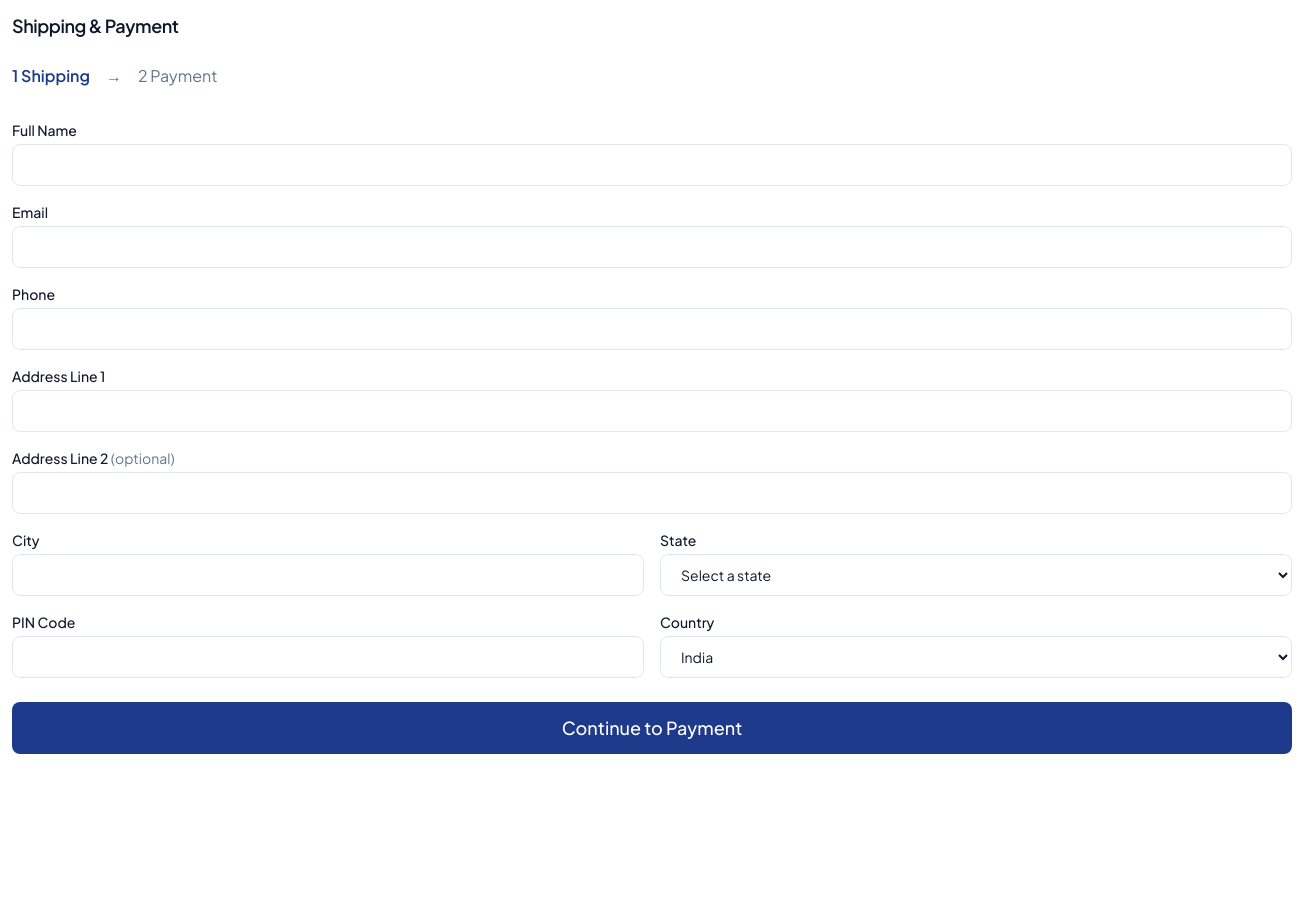
Test: CheckoutForm › links to prescription upload when checkout is blocked on a missing approved prescription
Type "Test User" into the field labelled "Full Name" at (652, 165), box [12, 144, 1292, 186]
Type "test@test.com" into the field labelled "Email" at (652, 247), box [12, 226, 1292, 268]
Type "9876543210" into the field labelled "Phone" at (652, 329), box [12, 308, 1292, 350]
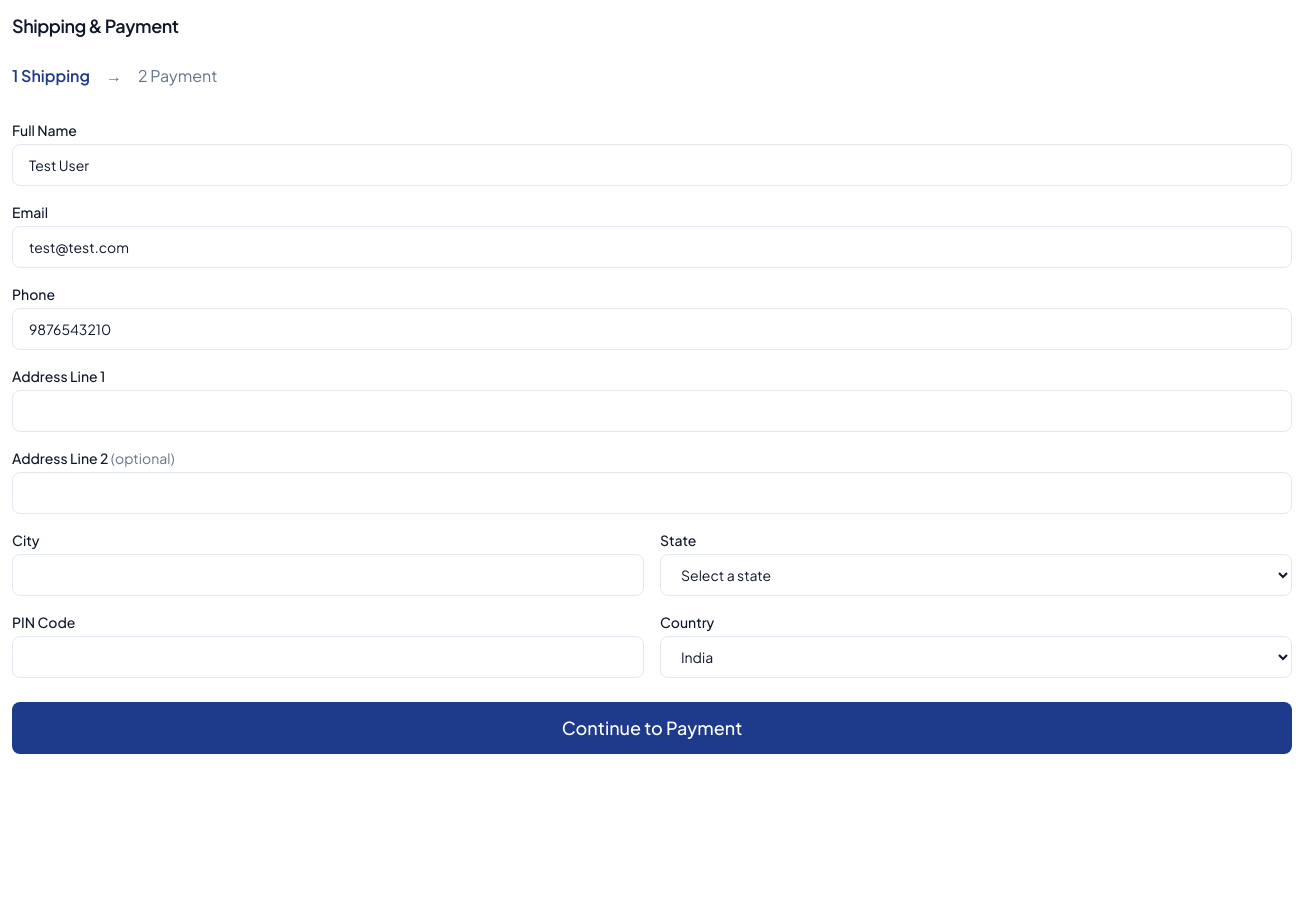
Type "22-1-53, Balaji Nagar" into the field labelled "Address Line 1" at (652, 411), box [12, 390, 1292, 432]
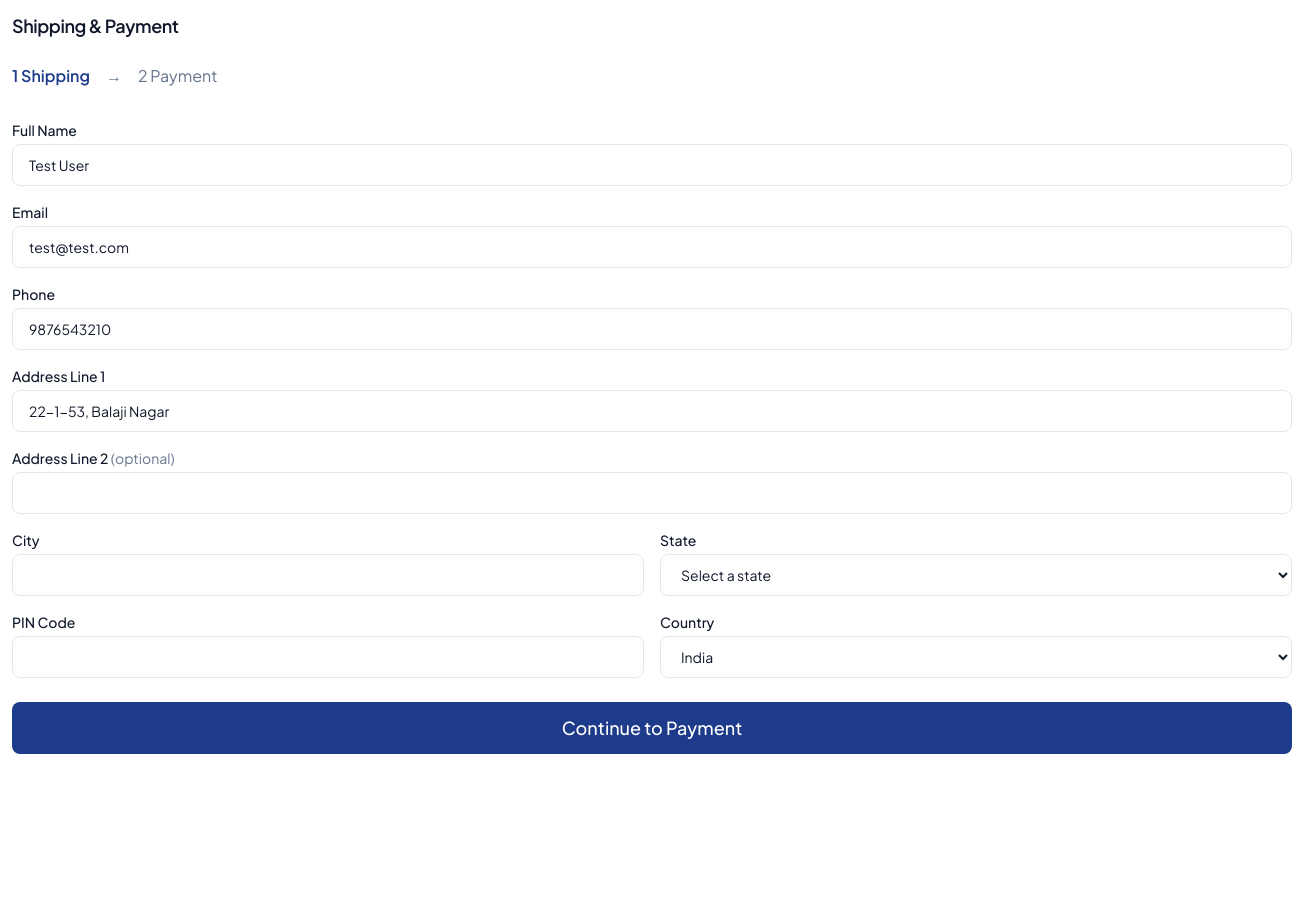
Type "Vijayawada" into the field labelled "City" at (328, 575), box [12, 554, 644, 596]
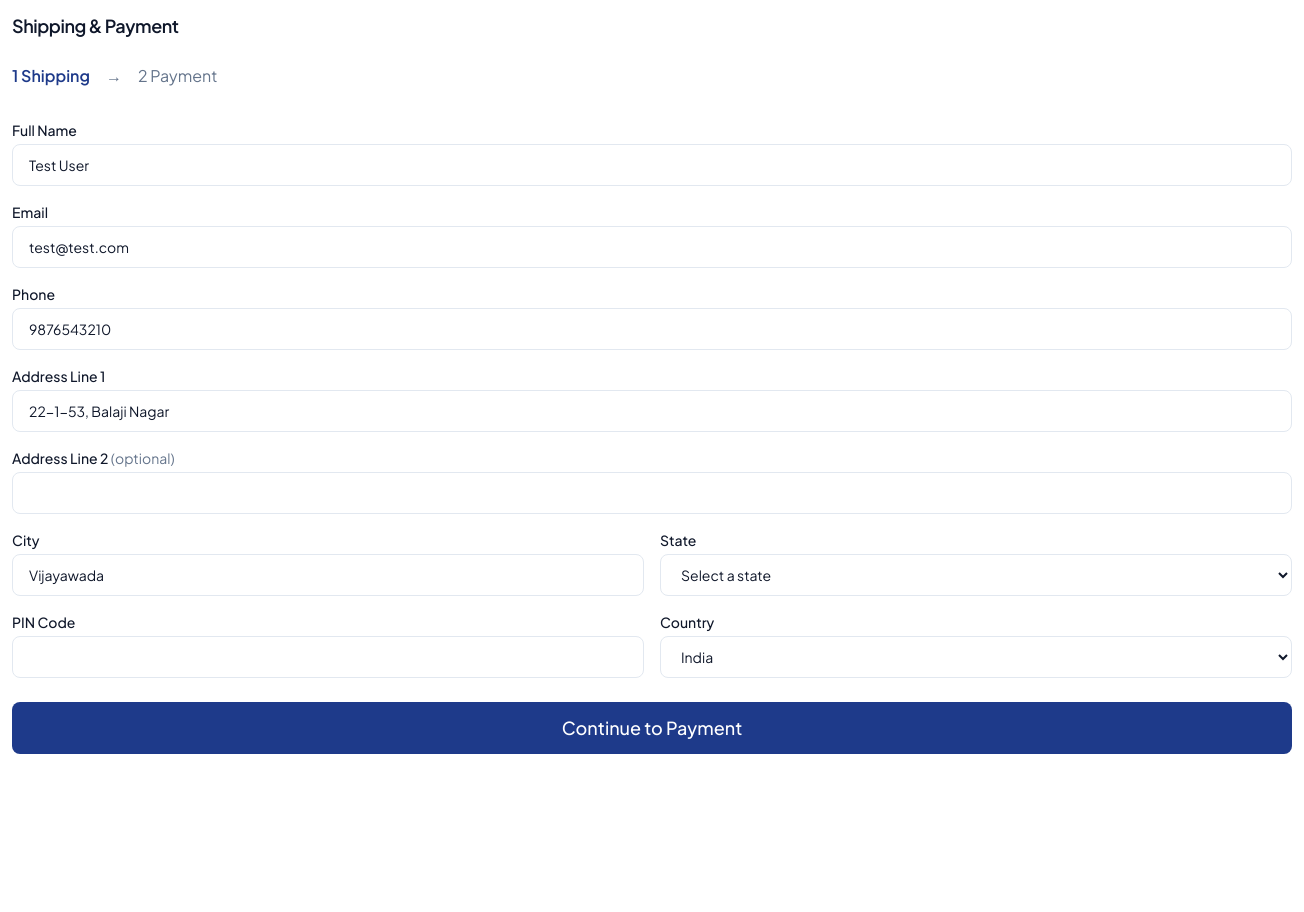
Select "Andhra Pradesh" in the dropdown labelled "State" at (976, 575), box [660, 554, 1292, 596]
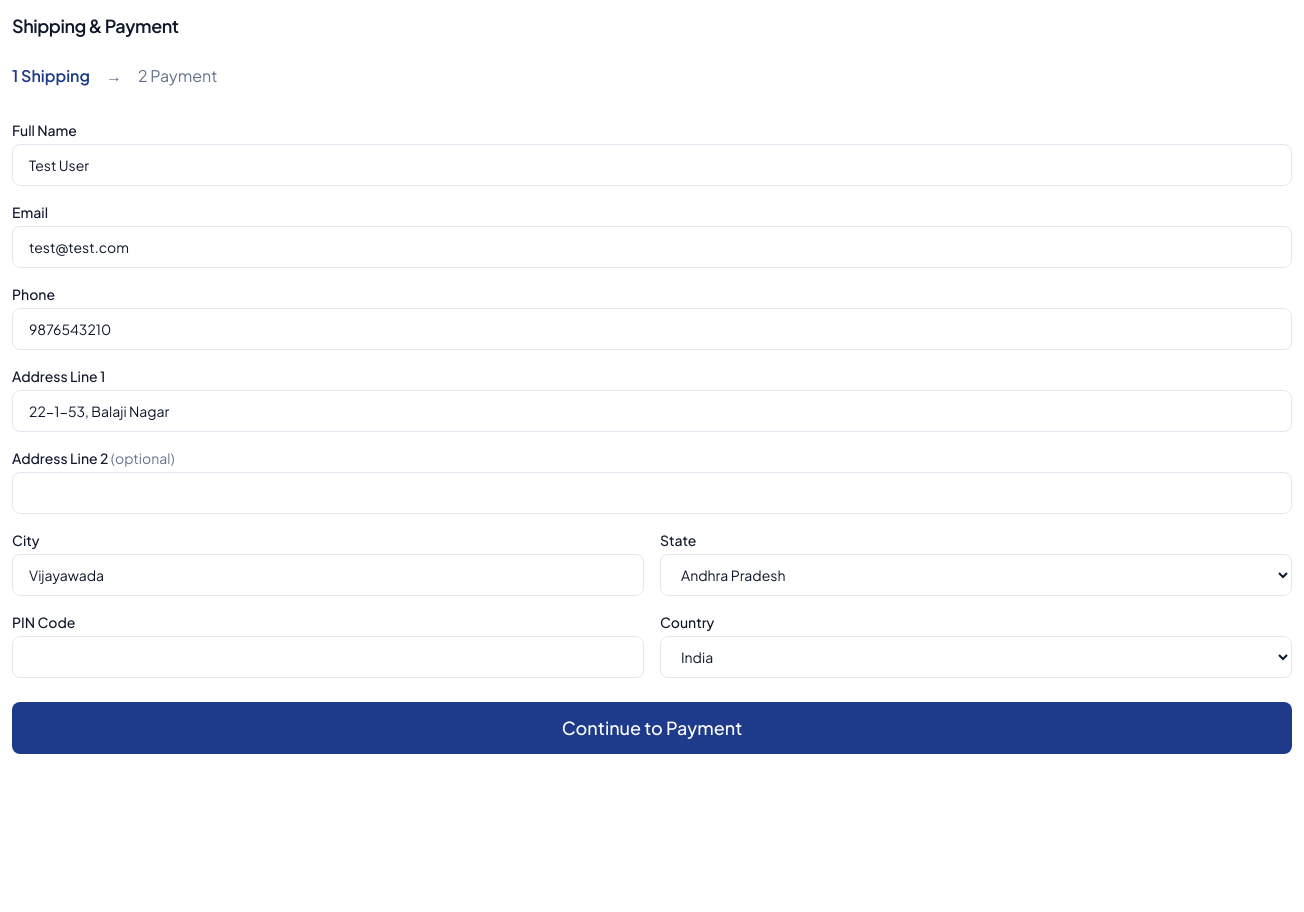
Type "520010" into the field labelled "PIN Code" at (328, 657), box [12, 636, 644, 678]
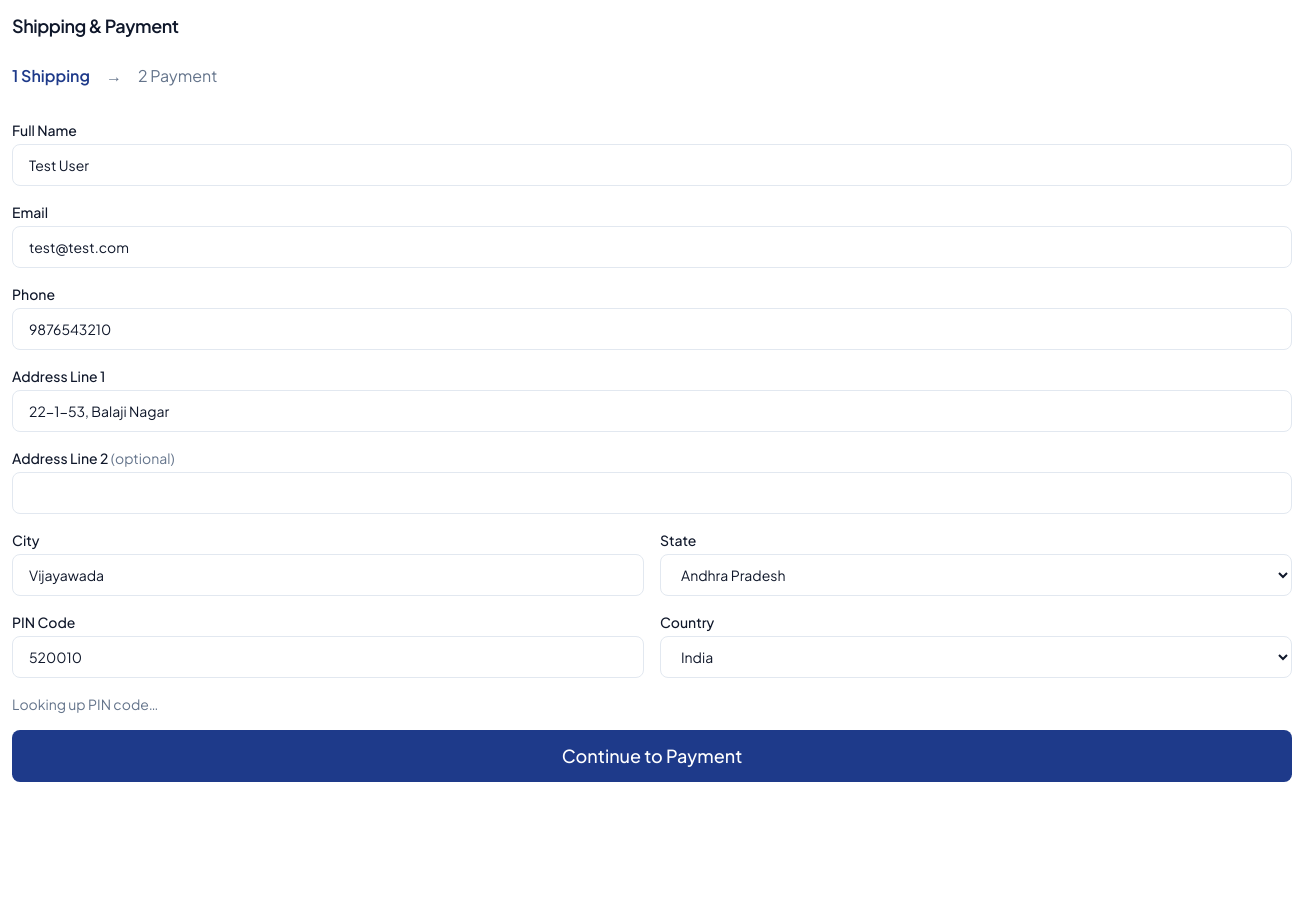
Click the button "Continue to Payment" at (652, 756), box [12, 730, 1292, 782]
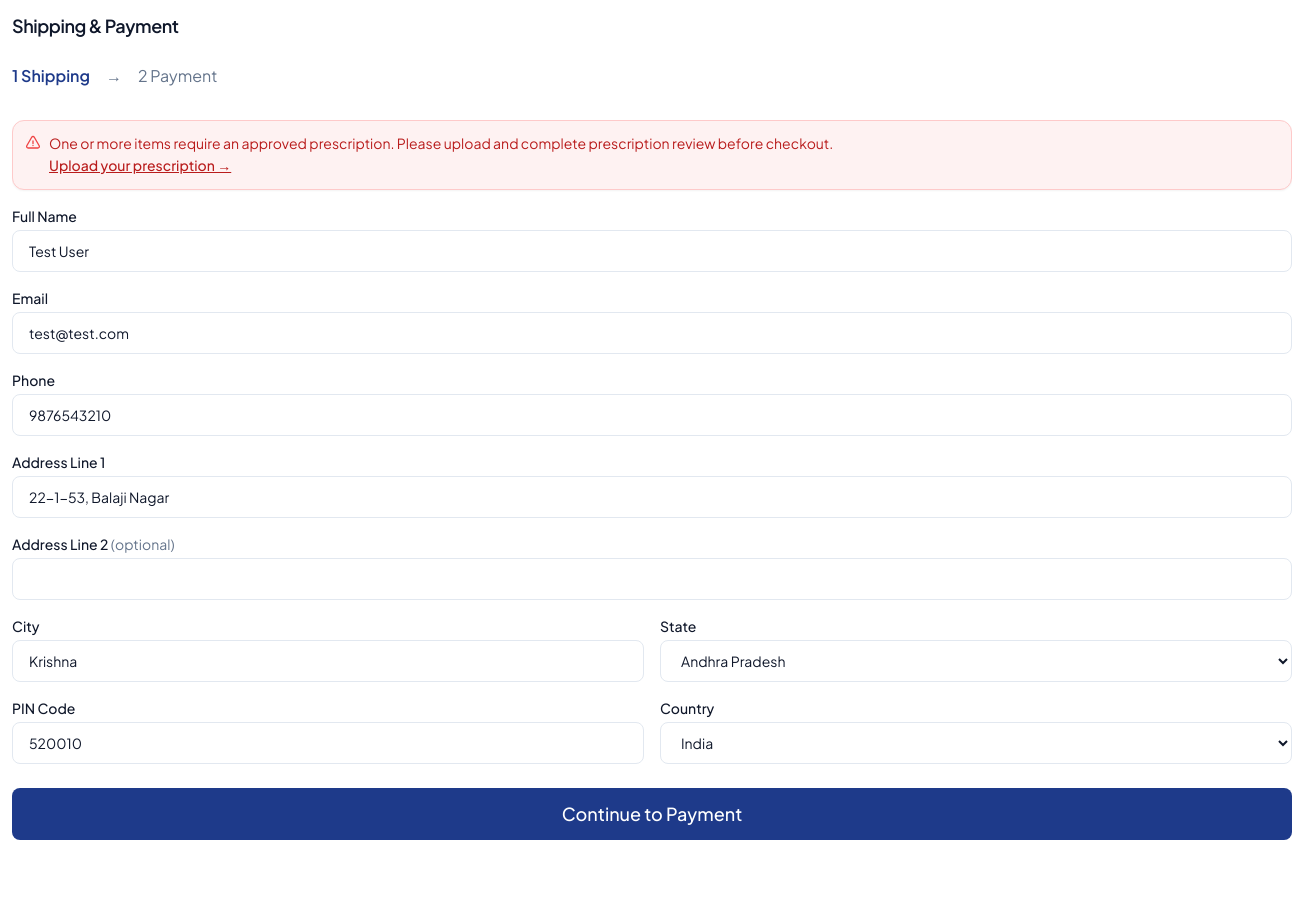
Expected: the text "approved prescription" is shown, [49, 134, 833, 152]
